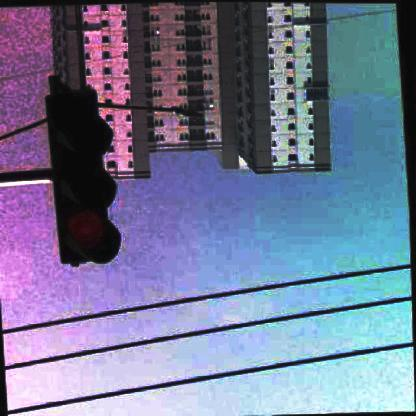Traffic Light -Red-: (50, 90, 120, 264)
